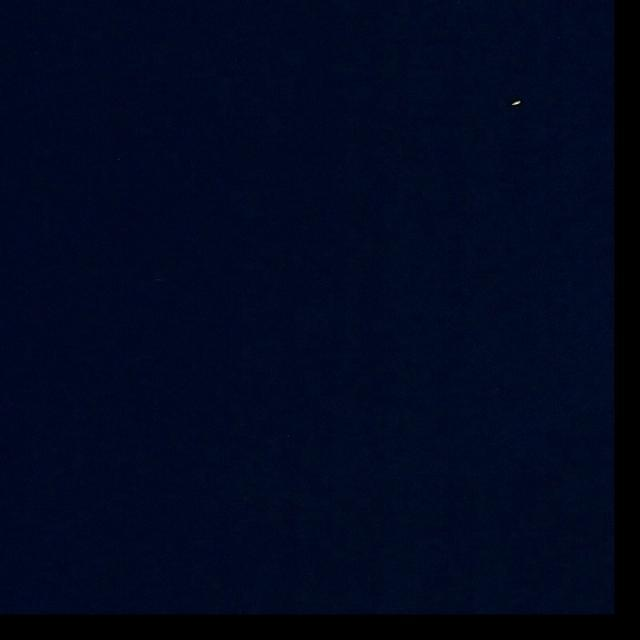ship: (510, 99, 522, 107)
